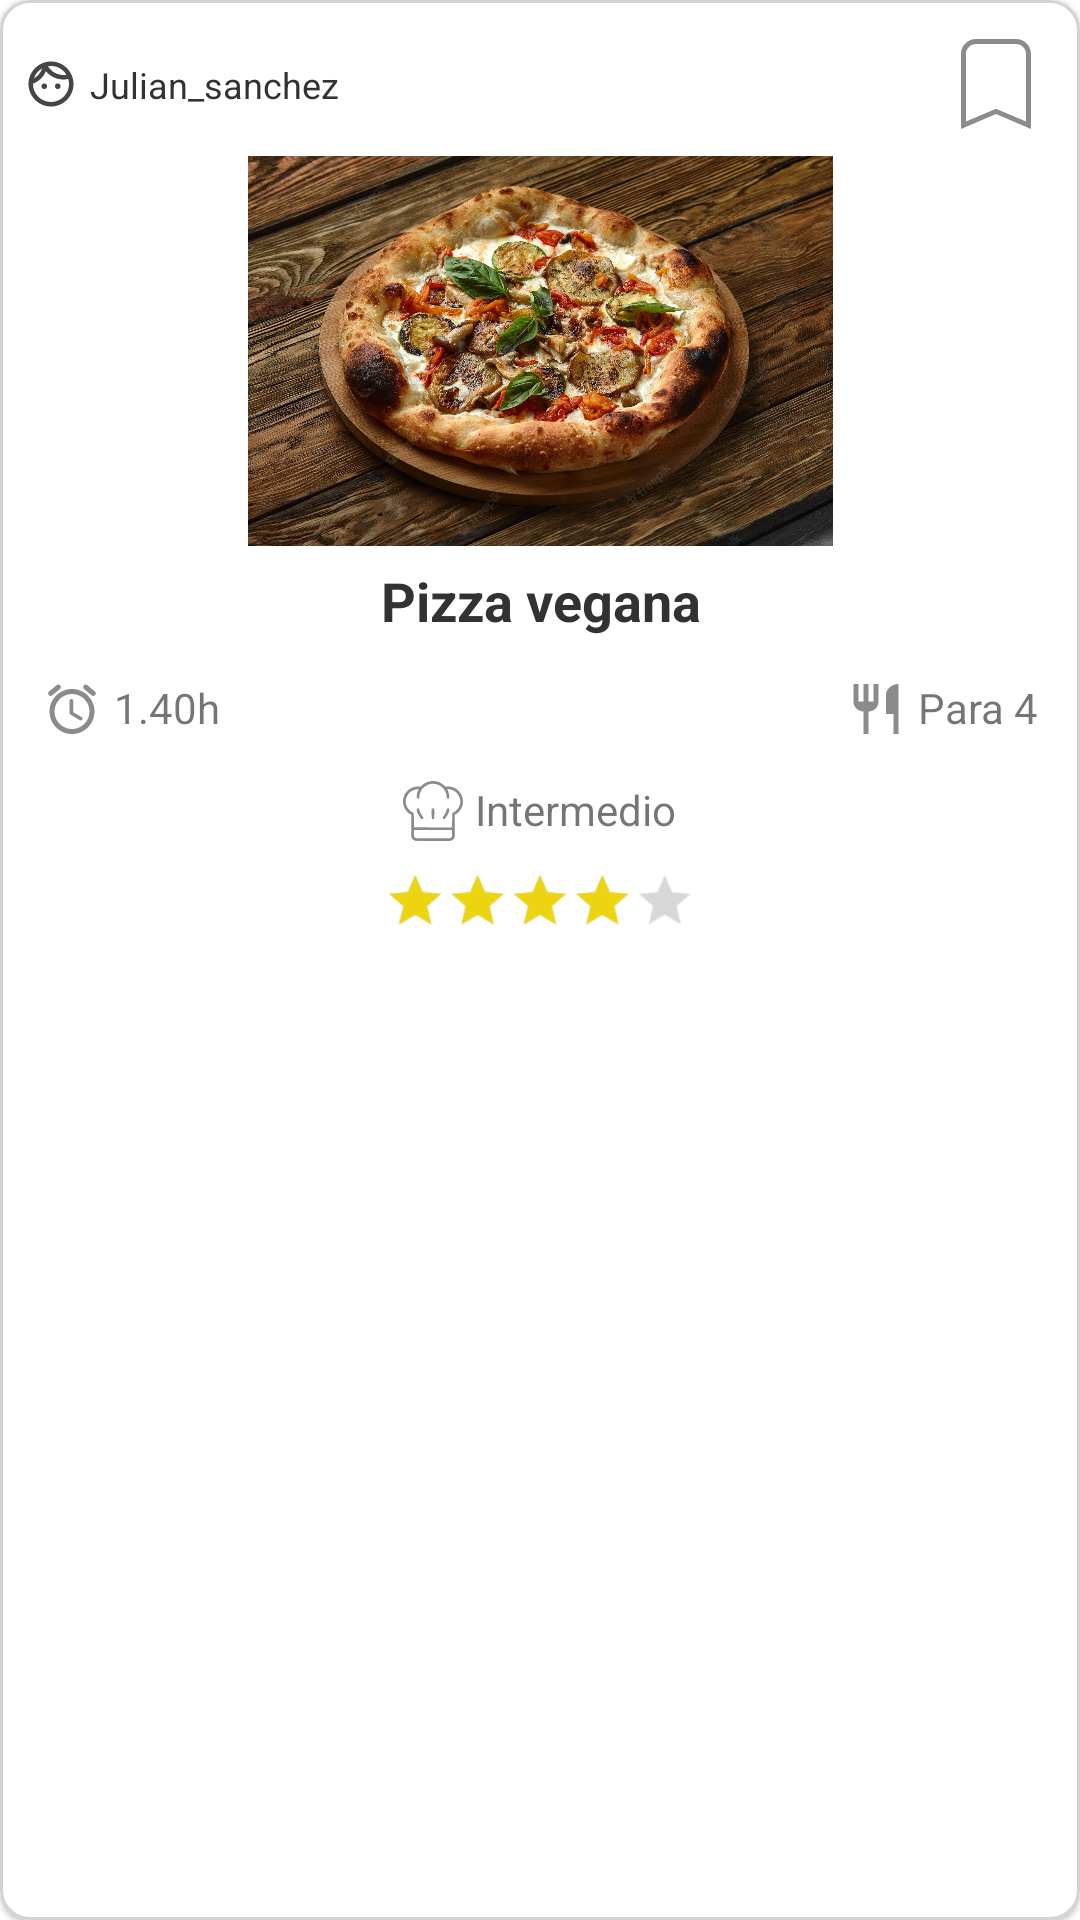

Screen size 1080w x 1920h. Icon name, then its box in pixels as [x1, y1, x2, y2]:
chef: [403, 781, 463, 841]
clock: [48, 684, 96, 734]
flatware: [853, 684, 899, 734]
user: [28, 61, 74, 107]
